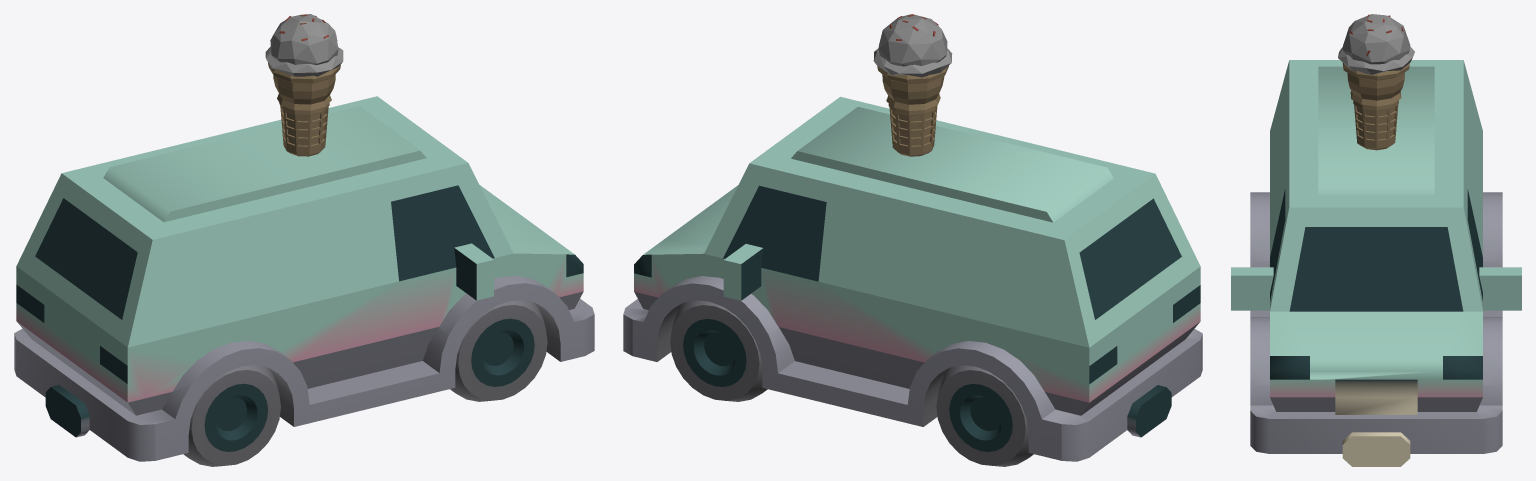
The model's file is truck.glb.
3 views of the same model, side by side, from view 1: azimuth 30°, elevation 25°; view 2: azimuth 150°, elevation 25°; view 3: azimuth 270°, elevation 25° (orthographic). The views are drawn at different scales.
Parts seen in each view (by area): view 1: wheel-front-right; view 2: wheel-front-right; view 3: wheel-front-right.
Part boxes in pixels (x1,y1,x2,y2): wheel-front-right: [14, 14, 594, 466]; wheel-front-right: [623, 14, 1202, 466]; wheel-front-right: [1231, 14, 1521, 466].
Size of the model in its own units: 4.6 by 3.46 by 2.51.
